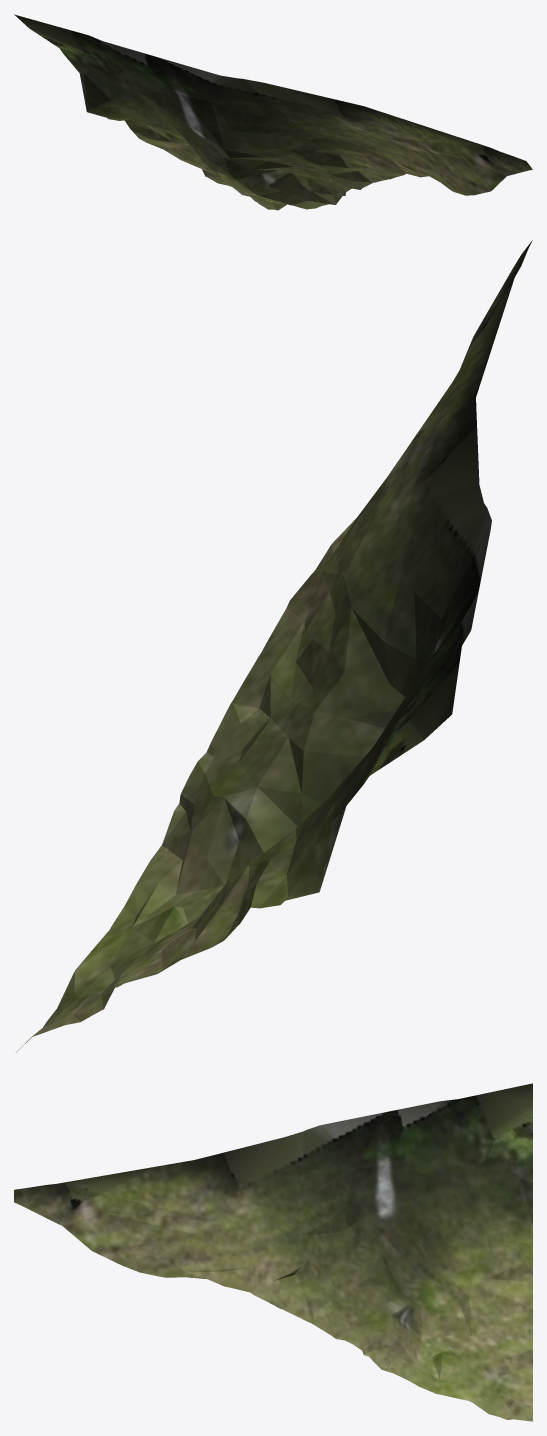
3 renders of one model, top to bottom at view 1: azimuth 30°, elevation 25°; view 2: azimuth 150°, elevation 25°; view 3: azimuth 270°, elevation 25°, orthographic. The views are drawn at different scales.
Size of the model in its own units: 13.03 by 12.7 by 26.11.
1 material, 1 textured.
